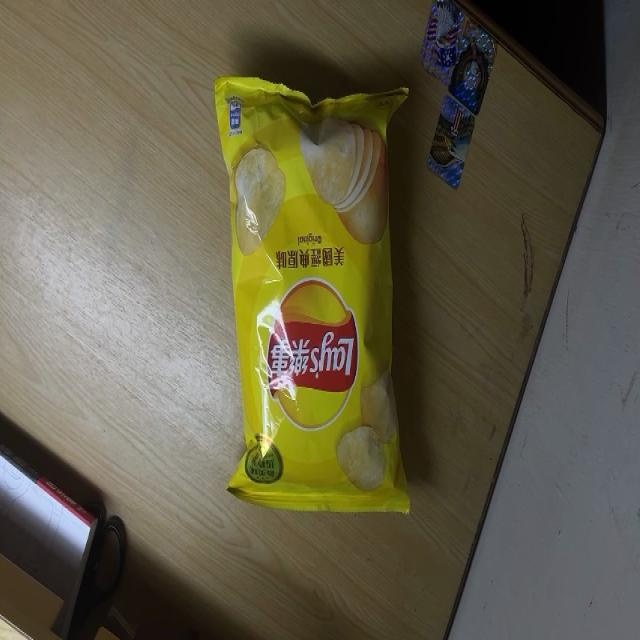Lay-s-original: (212, 72, 411, 516)
